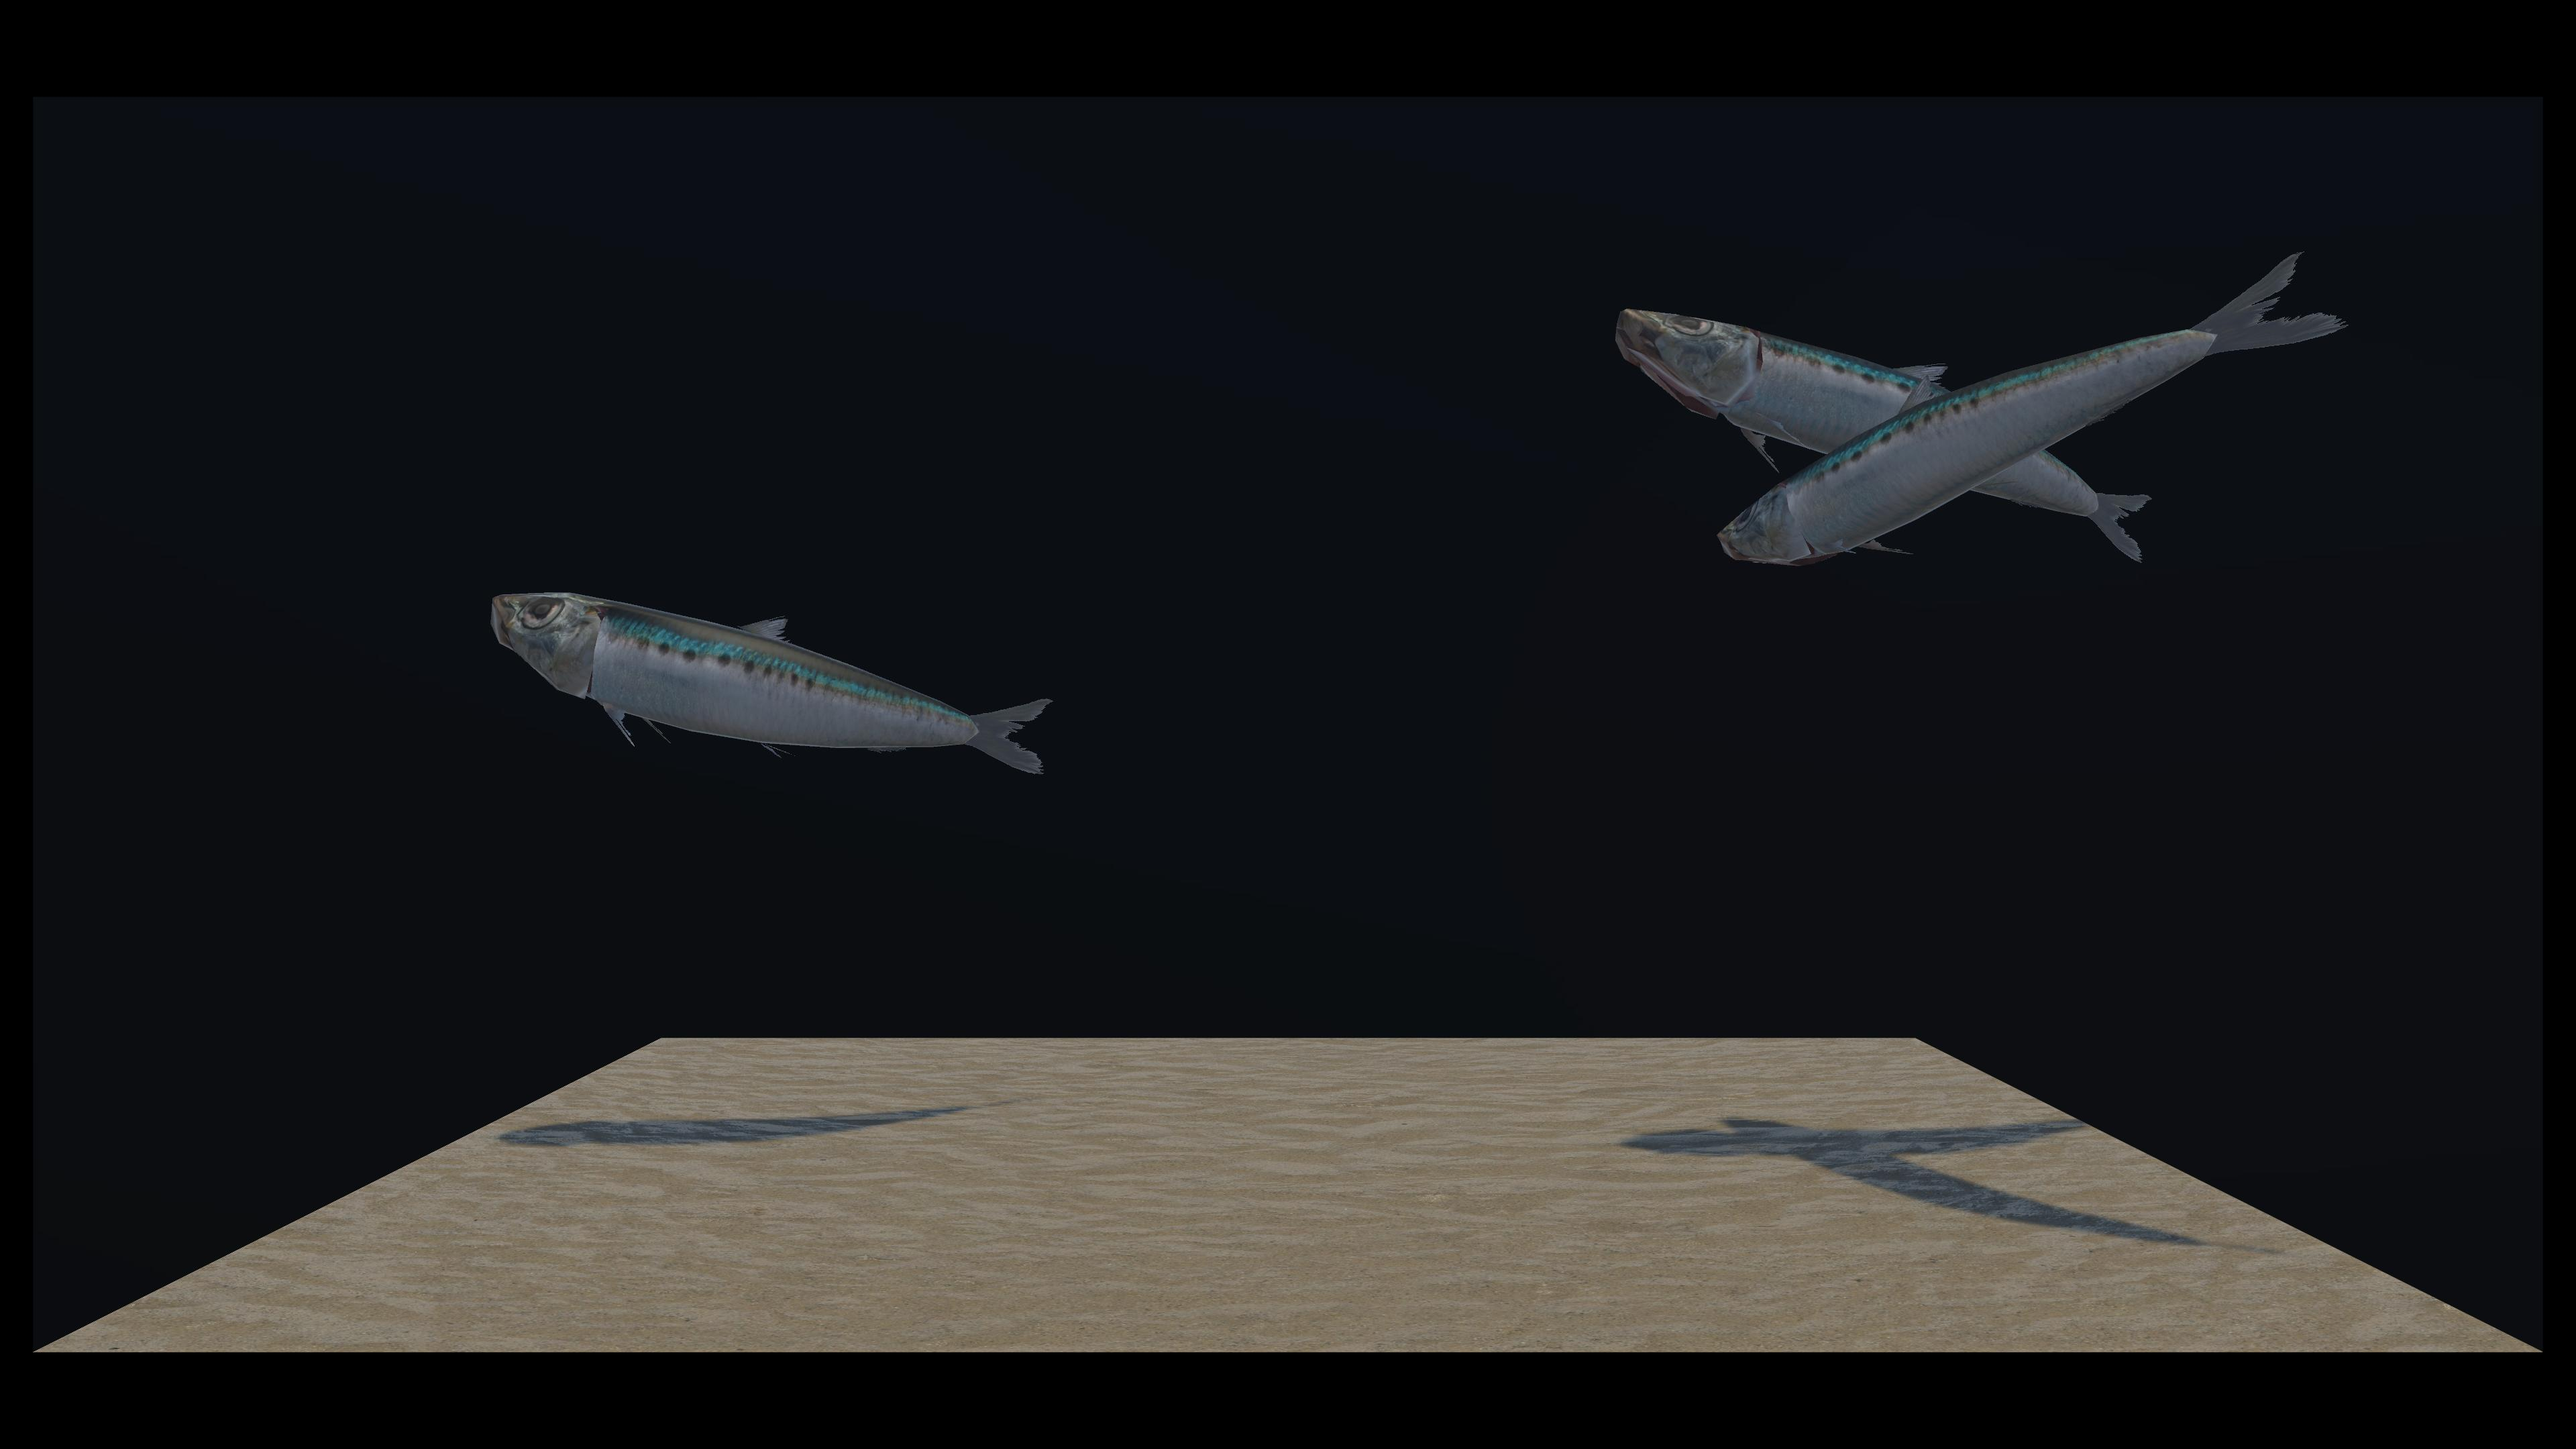Sardine_Front: (964, 246, 2342, 591), (858, 311, 2148, 561), (504, 398, 1046, 773)
